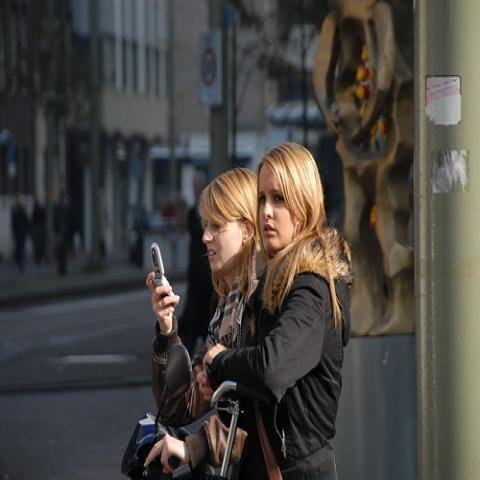motorcycle: (119, 344, 270, 478)
